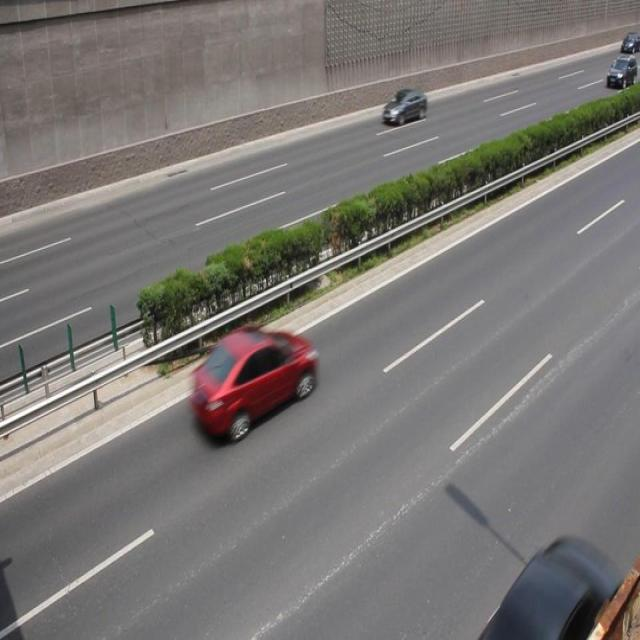car: (186, 325, 316, 443), (381, 88, 426, 127)
